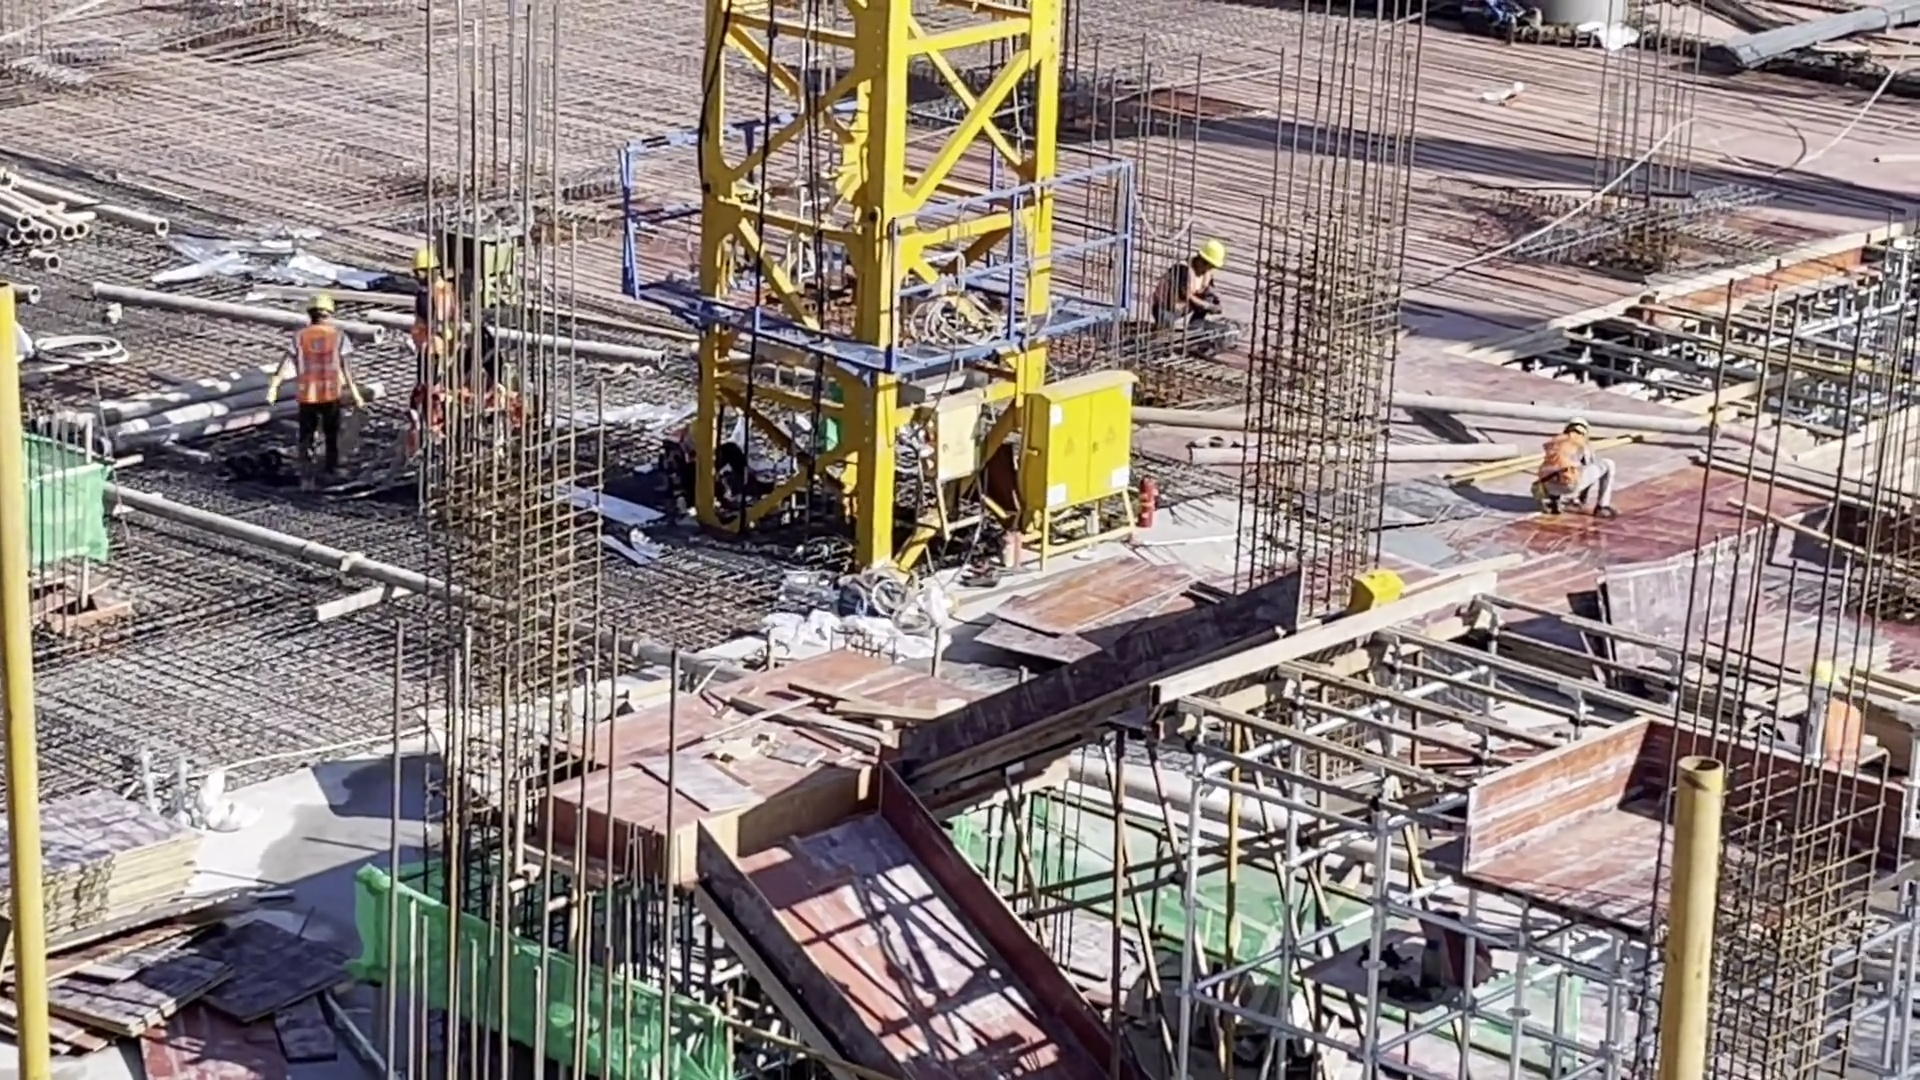board: (52, 881, 339, 1080), (22, 776, 199, 943)
ebox: (1021, 365, 1144, 567), (922, 385, 987, 549), (1343, 571, 1407, 619)
helmet: (1798, 656, 1842, 688), (1195, 236, 1226, 270), (297, 295, 341, 317)
person: (284, 284, 362, 481), (1789, 651, 1866, 783), (1534, 413, 1622, 514), (415, 245, 461, 403), (1154, 236, 1227, 332)
rebar: (1702, 1, 1920, 86)
vest: (1796, 705, 1865, 781), (296, 325, 343, 414), (1156, 260, 1209, 325), (1539, 428, 1586, 487)
